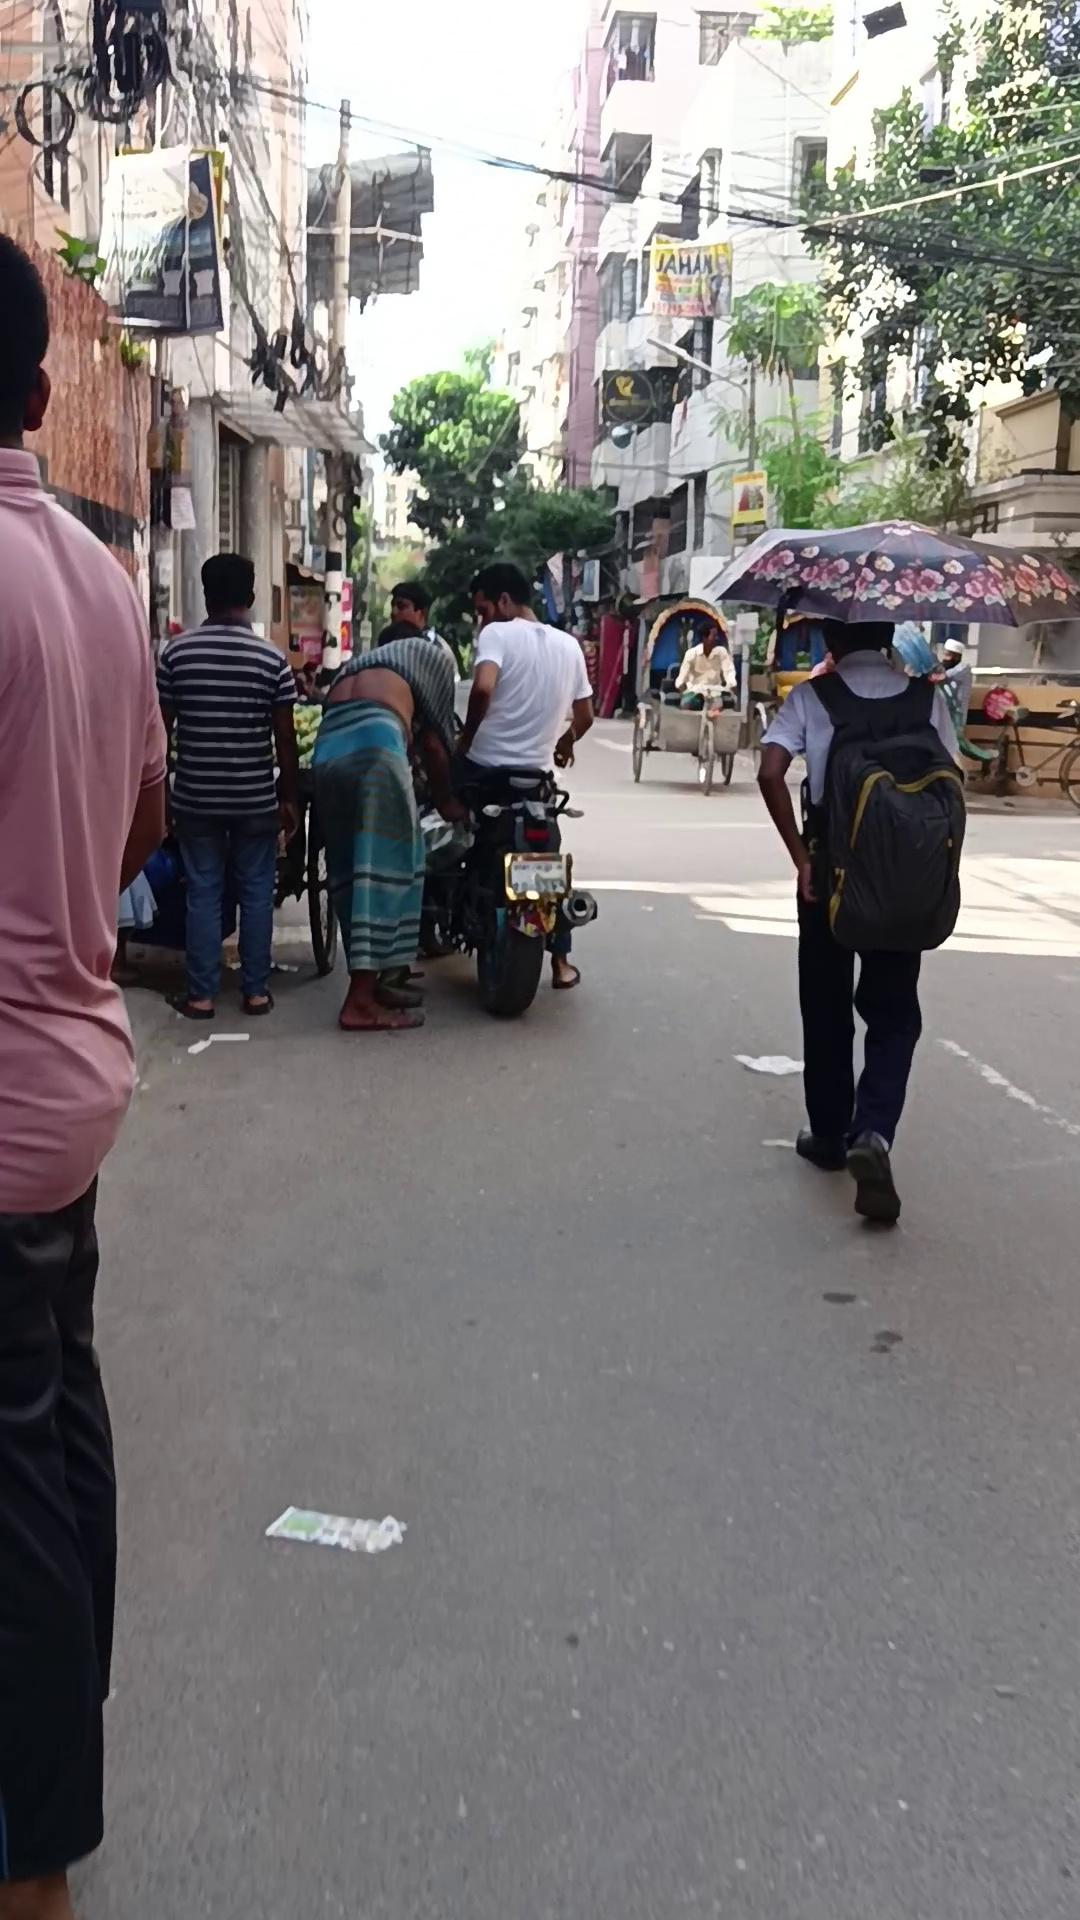Muddy road: (0, 229, 170, 1917), (756, 617, 967, 1222), (154, 553, 302, 1021), (309, 626, 469, 1031), (446, 562, 595, 990), (674, 621, 738, 719)
Pothole: (629, 596, 746, 796)
